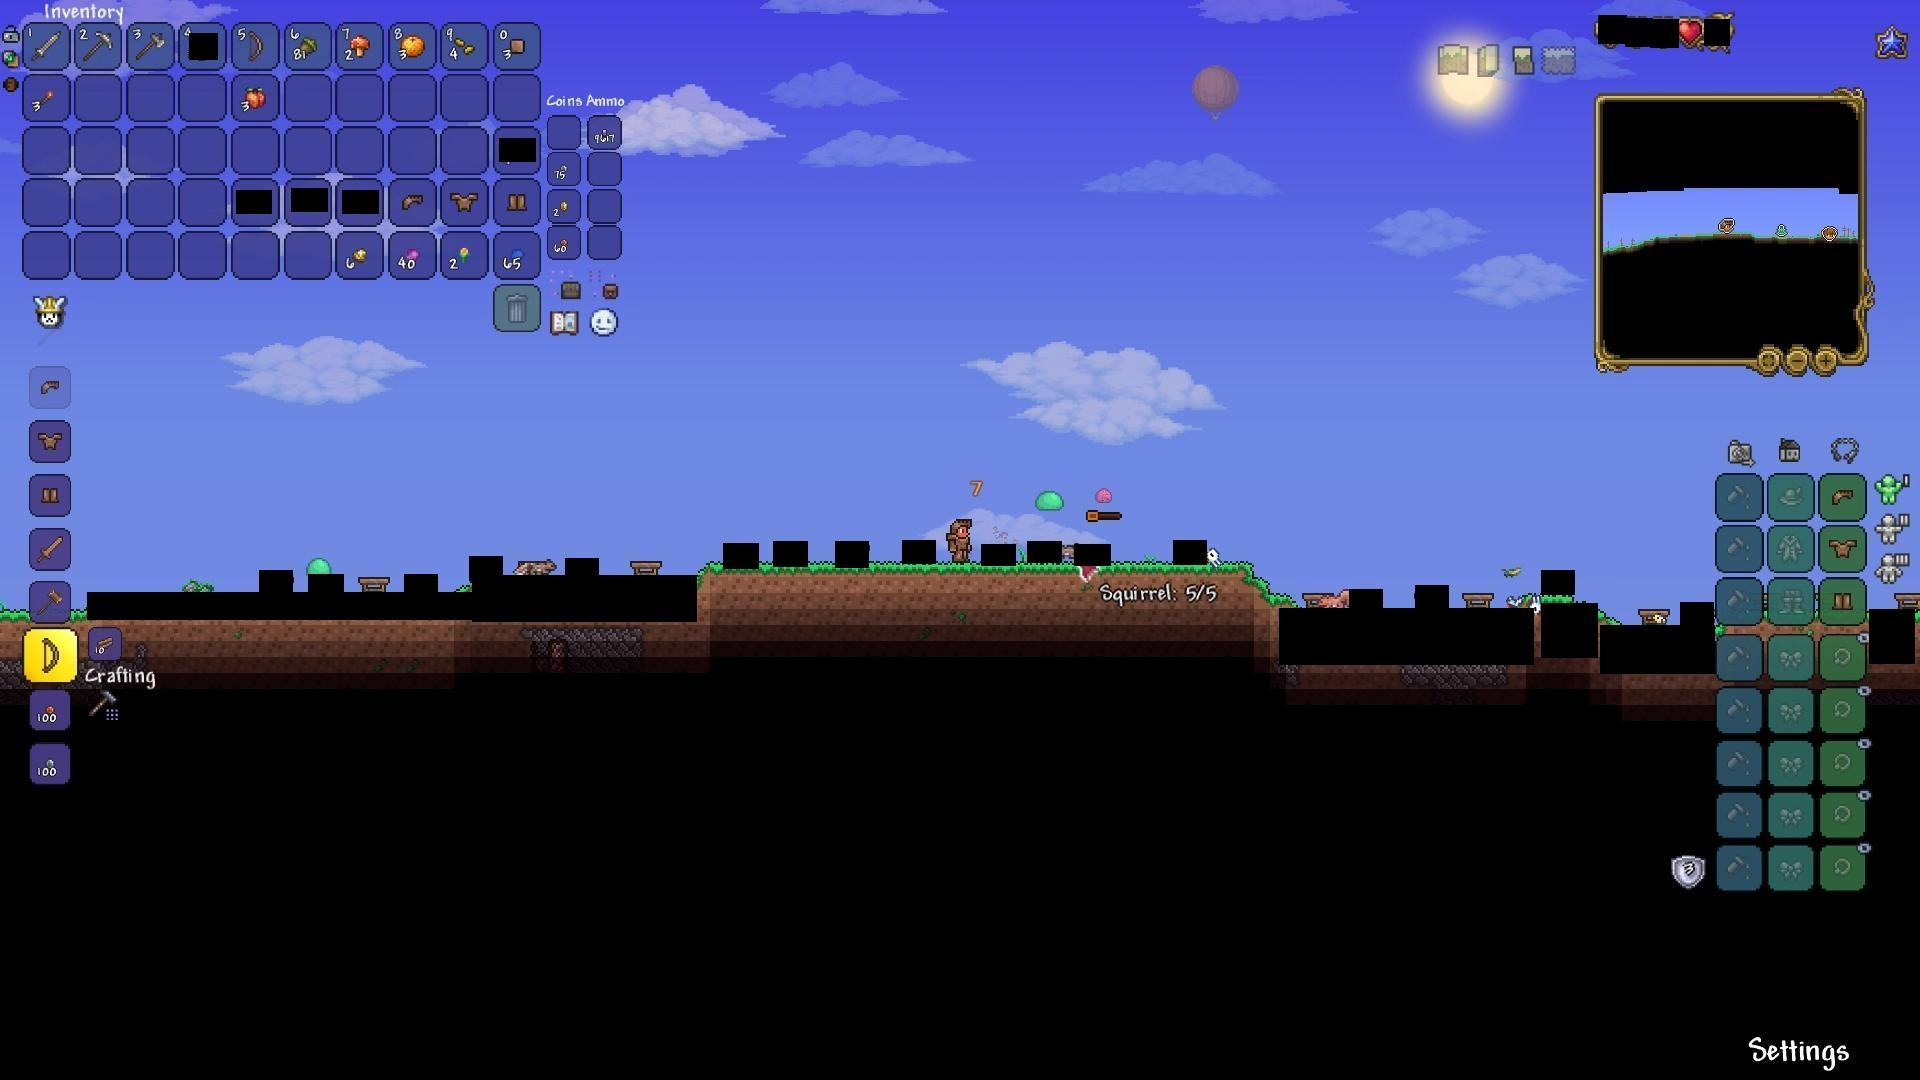breastplate: (36, 429, 65, 450), (448, 190, 477, 210), (1832, 538, 1859, 558)
dirt: (700, 562, 1274, 612)
heart: (1677, 18, 1702, 47)
helmet: (33, 375, 66, 402), (1828, 484, 1858, 509), (400, 189, 429, 214)
legs: (38, 483, 65, 509), (505, 186, 530, 214), (1832, 588, 1855, 615)
slime: (1089, 480, 1121, 508), (302, 550, 334, 574), (1036, 487, 1064, 513)
wood: (90, 632, 120, 657)
workbench: (357, 574, 392, 597), (1302, 584, 1335, 608), (1461, 587, 1494, 611), (1639, 604, 1672, 628), (1888, 591, 1920, 615), (630, 559, 662, 582)
